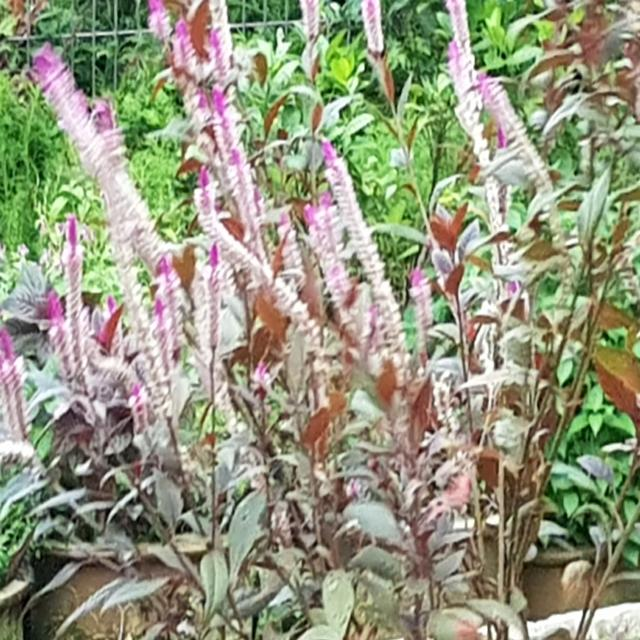Celosia-Argentea: (38, 49, 194, 360), (433, 22, 526, 264), (320, 131, 411, 371), (470, 61, 574, 251), (190, 170, 300, 318), (64, 212, 101, 373), (194, 229, 221, 364), (408, 260, 439, 367)
